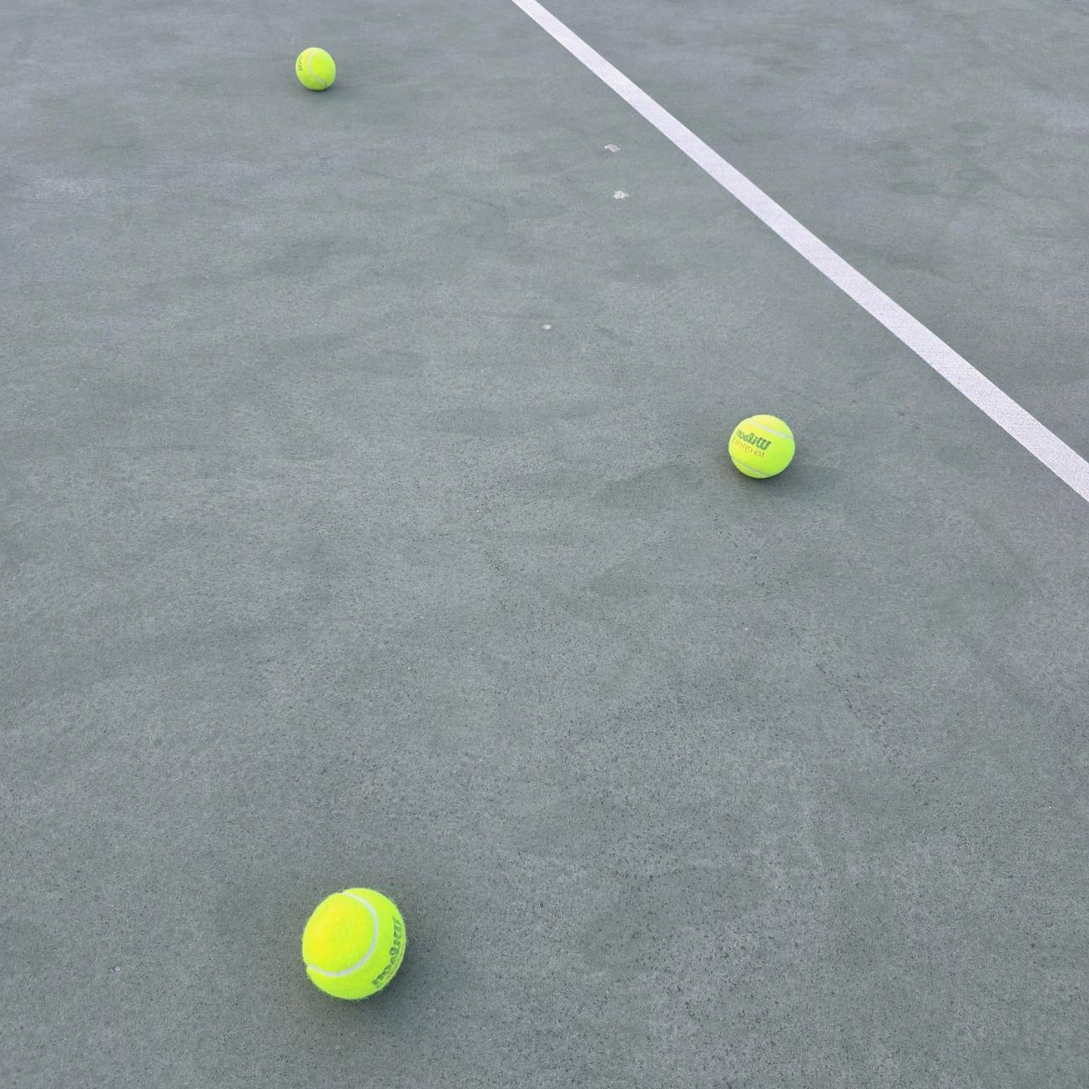tennis-ball: (300, 883, 409, 1001), (729, 414, 795, 480), (294, 44, 339, 91)
